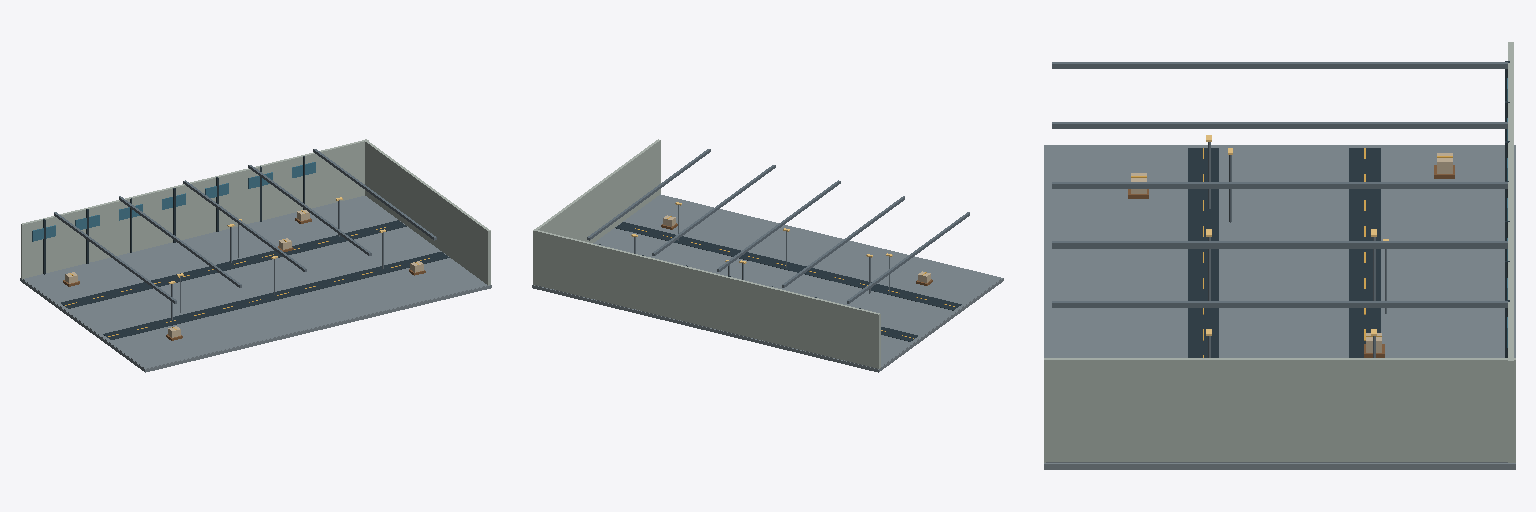
The robot description file, URDF, robot "delivery_logistics_visual":
<?xml version="1.0" encoding="UTF-8"?>
<!-- Static VISUAL ONLY scenery aligned to world/campus_layout.json; no collision dynamics. -->
<robot name="delivery_logistics_visual"><link name="odom">
<visual name="base_1"><origin xyz="16 10 -0.16" rpy="0 0 0"/><geometry><box size="32 20 0.28"/></geometry><material name="concrete"><color rgba="0.5412 0.5843 0.6118 1"/></material></visual>
<visual name="warehouse-concrete_2"><origin xyz="16 10 -0.006" rpy="0 0 0"/><geometry><box size="31.9 19.9 0.045"/></geometry><material name="concrete"><color rgba="0.5412 0.5843 0.6118 1"/></material></visual>
<visual name="industrial-lane_3"><origin xyz="16 6.75 0.023" rpy="0 0 0"/><geometry><box size="31.3 1.35 0.02"/></geometry><material name="dark"><color rgba="0.2235 0.2784 0.3137 1"/></material></visual>
<visual name="lane-mark_4"><origin xyz="1 6.75 0.039" rpy="0 0 0"/><geometry><box size="1.1 0.075 0.02"/></geometry><material name="yellow"><color rgba="0.9059 0.7137 0.3647 1"/></material></visual>
<visual name="lane-mark_5"><origin xyz="3.6 6.75 0.039" rpy="0 0 0"/><geometry><box size="1.1 0.075 0.02"/></geometry><material name="yellow"><color rgba="0.9059 0.7137 0.3647 1"/></material></visual>
<visual name="lane-mark_6"><origin xyz="6.2 6.75 0.039" rpy="0 0 0"/><geometry><box size="1.1 0.075 0.02"/></geometry><material name="yellow"><color rgba="0.9059 0.7137 0.3647 1"/></material></visual>
<visual name="lane-mark_7"><origin xyz="8.8 6.75 0.039" rpy="0 0 0"/><geometry><box size="1.1 0.075 0.02"/></geometry><material name="yellow"><color rgba="0.9059 0.7137 0.3647 1"/></material></visual>
<visual name="lane-mark_8"><origin xyz="11.4 6.75 0.039" rpy="0 0 0"/><geometry><box size="1.1 0.075 0.02"/></geometry><material name="yellow"><color rgba="0.9059 0.7137 0.3647 1"/></material></visual>
<visual name="lane-mark_9"><origin xyz="14 6.75 0.039" rpy="0 0 0"/><geometry><box size="1.1 0.075 0.02"/></geometry><material name="yellow"><color rgba="0.9059 0.7137 0.3647 1"/></material></visual>
<visual name="lane-mark_10"><origin xyz="16.6 6.75 0.039" rpy="0 0 0"/><geometry><box size="1.1 0.075 0.02"/></geometry><material name="yellow"><color rgba="0.9059 0.7137 0.3647 1"/></material></visual>
<visual name="lane-mark_11"><origin xyz="19.2 6.75 0.039" rpy="0 0 0"/><geometry><box size="1.1 0.075 0.02"/></geometry><material name="yellow"><color rgba="0.9059 0.7137 0.3647 1"/></material></visual>
<visual name="lane-mark_12"><origin xyz="21.8 6.75 0.039" rpy="0 0 0"/><geometry><box size="1.1 0.075 0.02"/></geometry><material name="yellow"><color rgba="0.9059 0.7137 0.3647 1"/></material></visual>
<visual name="lane-mark_13"><origin xyz="24.4 6.75 0.039" rpy="0 0 0"/><geometry><box size="1.1 0.075 0.02"/></geometry><material name="yellow"><color rgba="0.9059 0.7137 0.3647 1"/></material></visual>
<visual name="lane-mark_14"><origin xyz="27 6.75 0.039" rpy="0 0 0"/><geometry><box size="1.1 0.075 0.02"/></geometry><material name="yellow"><color rgba="0.9059 0.7137 0.3647 1"/></material></visual>
<visual name="lane-mark_15"><origin xyz="29.6 6.75 0.039" rpy="0 0 0"/><geometry><box size="1.1 0.075 0.02"/></geometry><material name="yellow"><color rgba="0.9059 0.7137 0.3647 1"/></material></visual>
<visual name="industrial-lane_16"><origin xyz="16 13.6 0.023" rpy="0 0 0"/><geometry><box size="31.3 1.35 0.02"/></geometry><material name="dark"><color rgba="0.2235 0.2784 0.3137 1"/></material></visual>
<visual name="lane-mark_17"><origin xyz="1 13.6 0.039" rpy="0 0 0"/><geometry><box size="1.1 0.075 0.02"/></geometry><material name="yellow"><color rgba="0.9059 0.7137 0.3647 1"/></material></visual>
<visual name="lane-mark_18"><origin xyz="3.6 13.6 0.039" rpy="0 0 0"/><geometry><box size="1.1 0.075 0.02"/></geometry><material name="yellow"><color rgba="0.9059 0.7137 0.3647 1"/></material></visual>
<visual name="lane-mark_19"><origin xyz="6.2 13.6 0.039" rpy="0 0 0"/><geometry><box size="1.1 0.075 0.02"/></geometry><material name="yellow"><color rgba="0.9059 0.7137 0.3647 1"/></material></visual>
<visual name="lane-mark_20"><origin xyz="8.8 13.6 0.039" rpy="0 0 0"/><geometry><box size="1.1 0.075 0.02"/></geometry><material name="yellow"><color rgba="0.9059 0.7137 0.3647 1"/></material></visual>
<visual name="lane-mark_21"><origin xyz="11.4 13.6 0.039" rpy="0 0 0"/><geometry><box size="1.1 0.075 0.02"/></geometry><material name="yellow"><color rgba="0.9059 0.7137 0.3647 1"/></material></visual>
<visual name="lane-mark_22"><origin xyz="14 13.6 0.039" rpy="0 0 0"/><geometry><box size="1.1 0.075 0.02"/></geometry><material name="yellow"><color rgba="0.9059 0.7137 0.3647 1"/></material></visual>
<visual name="lane-mark_23"><origin xyz="16.6 13.6 0.039" rpy="0 0 0"/><geometry><box size="1.1 0.075 0.02"/></geometry><material name="yellow"><color rgba="0.9059 0.7137 0.3647 1"/></material></visual>
<visual name="lane-mark_24"><origin xyz="19.2 13.6 0.039" rpy="0 0 0"/><geometry><box size="1.1 0.075 0.02"/></geometry><material name="yellow"><color rgba="0.9059 0.7137 0.3647 1"/></material></visual>
<visual name="lane-mark_25"><origin xyz="21.8 13.6 0.039" rpy="0 0 0"/><geometry><box size="1.1 0.075 0.02"/></geometry><material name="yellow"><color rgba="0.9059 0.7137 0.3647 1"/></material></visual>
<visual name="lane-mark_26"><origin xyz="24.4 13.6 0.039" rpy="0 0 0"/><geometry><box size="1.1 0.075 0.02"/></geometry><material name="yellow"><color rgba="0.9059 0.7137 0.3647 1"/></material></visual>
<visual name="lane-mark_27"><origin xyz="27 13.6 0.039" rpy="0 0 0"/><geometry><box size="1.1 0.075 0.02"/></geometry><material name="yellow"><color rgba="0.9059 0.7137 0.3647 1"/></material></visual>
<visual name="lane-mark_28"><origin xyz="29.6 13.6 0.039" rpy="0 0 0"/><geometry><box size="1.1 0.075 0.02"/></geometry><material name="yellow"><color rgba="0.9059 0.7137 0.3647 1"/></material></visual>
<visual name="rear-wall_29"><origin xyz="16 19.82 2.4" rpy="0 0 0"/><geometry><box size="32 0.25 4.8"/></geometry><material name="wall"><color rgba="0.7216 0.7608 0.7333 1"/></material></visual>
<visual name="east-wall_30"><origin xyz="31.82 10 2.4" rpy="0 0 0"/><geometry><box size="0.25 20 4.8"/></geometry><material name="wall"><color rgba="0.7216 0.7608 0.7333 1"/></material></visual>
<visual name="warehouse-window_31"><origin xyz="2 19.66 3.6" rpy="0 0 0"/><geometry><box size="2.2 0.08 0.95"/></geometry><material name="glass"><color rgba="0.3294 0.5294 0.6118 1"/></material></visual>
<visual name="wall-post_32"><origin xyz="2 19.66 2.4" rpy="0 0 0"/><geometry><box size="0.15 0.22 4.8"/></geometry><material name="dark"><color rgba="0.2235 0.2784 0.3137 1"/></material></visual>
<visual name="warehouse-window_33"><origin xyz="6 19.66 3.6" rpy="0 0 0"/><geometry><box size="2.2 0.08 0.95"/></geometry><material name="glass"><color rgba="0.3294 0.5294 0.6118 1"/></material></visual>
<visual name="wall-post_34"><origin xyz="6 19.66 2.4" rpy="0 0 0"/><geometry><box size="0.15 0.22 4.8"/></geometry><material name="dark"><color rgba="0.2235 0.2784 0.3137 1"/></material></visual>
<visual name="warehouse-window_35"><origin xyz="10 19.66 3.6" rpy="0 0 0"/><geometry><box size="2.2 0.08 0.95"/></geometry><material name="glass"><color rgba="0.3294 0.5294 0.6118 1"/></material></visual>
<visual name="wall-post_36"><origin xyz="10 19.66 2.4" rpy="0 0 0"/><geometry><box size="0.15 0.22 4.8"/></geometry><material name="dark"><color rgba="0.2235 0.2784 0.3137 1"/></material></visual>
<visual name="warehouse-window_37"><origin xyz="14 19.66 3.6" rpy="0 0 0"/><geometry><box size="2.2 0.08 0.95"/></geometry><material name="glass"><color rgba="0.3294 0.5294 0.6118 1"/></material></visual>
<visual name="wall-post_38"><origin xyz="14 19.66 2.4" rpy="0 0 0"/><geometry><box size="0.15 0.22 4.8"/></geometry><material name="dark"><color rgba="0.2235 0.2784 0.3137 1"/></material></visual>
<visual name="warehouse-window_39"><origin xyz="18 19.66 3.6" rpy="0 0 0"/><geometry><box size="2.2 0.08 0.95"/></geometry><material name="glass"><color rgba="0.3294 0.5294 0.6118 1"/></material></visual>
<visual name="wall-post_40"><origin xyz="18 19.66 2.4" rpy="0 0 0"/><geometry><box size="0.15 0.22 4.8"/></geometry><material name="dark"><color rgba="0.2235 0.2784 0.3137 1"/></material></visual>
<visual name="warehouse-window_41"><origin xyz="22 19.66 3.6" rpy="0 0 0"/><geometry><box size="2.2 0.08 0.95"/></geometry><material name="glass"><color rgba="0.3294 0.5294 0.6118 1"/></material></visual>
<visual name="wall-post_42"><origin xyz="22 19.66 2.4" rpy="0 0 0"/><geometry><box size="0.15 0.22 4.8"/></geometry><material name="dark"><color rgba="0.2235 0.2784 0.3137 1"/></material></visual>
<visual name="warehouse-window_43"><origin xyz="26 19.66 3.6" rpy="0 0 0"/><geometry><box size="2.2 0.08 0.95"/></geometry><material name="glass"><color rgba="0.3294 0.5294 0.6118 1"/></material></visual>
<visual name="wall-post_44"><origin xyz="26 19.66 2.4" rpy="0 0 0"/><geometry><box size="0.15 0.22 4.8"/></geometry><material name="dark"><color rgba="0.2235 0.2784 0.3137 1"/></material></visual>
<visual name="roof-support_45"><origin xyz="3 10 5.1" rpy="0 0 0"/><geometry><box size="0.22 19.4 0.24"/></geometry><material name="steel"><color rgba="0.4588 0.5098 0.5451 1"/></material></visual>
<visual name="roof-support_46"><origin xyz="9 10 5.1" rpy="0 0 0"/><geometry><box size="0.22 19.4 0.24"/></geometry><material name="steel"><color rgba="0.4588 0.5098 0.5451 1"/></material></visual>
<visual name="roof-support_47"><origin xyz="15 10 5.1" rpy="0 0 0"/><geometry><box size="0.22 19.4 0.24"/></geometry><material name="steel"><color rgba="0.4588 0.5098 0.5451 1"/></material></visual>
<visual name="roof-support_48"><origin xyz="21 10 5.1" rpy="0 0 0"/><geometry><box size="0.22 19.4 0.24"/></geometry><material name="steel"><color rgba="0.4588 0.5098 0.5451 1"/></material></visual>
<visual name="roof-support_49"><origin xyz="27 10 5.1" rpy="0 0 0"/><geometry><box size="0.22 19.4 0.24"/></geometry><material name="steel"><color rgba="0.4588 0.5098 0.5451 1"/></material></visual>
<visual name="aws-shelf_50"><origin xyz="20 17 0" rpy="0 0 1.5708"/><geometry><mesh filename="/models/environment/world/warehouse-shelf.dae" scale="0.38 0.38 0.38"/></geometry><material name="wall"><color rgba="0.7216 0.7608 0.7333 1"/></material></visual>
<visual name="aws-shelf_51"><origin xyz="28 18.3 0" rpy="0 0 1.5708"/><geometry><mesh filename="/models/environment/world/warehouse-shelf.dae" scale="0.38 0.38 0.38"/></geometry><material name="wall"><color rgba="0.7216 0.7608 0.7333 1"/></material></visual>
<visual name="aws-shelf_52"><origin xyz="3.7 18 0" rpy="0 0 1.5708"/><geometry><mesh filename="/models/environment/world/warehouse-shelf.dae" scale="0.38 0.38 0.38"/></geometry><material name="wall"><color rgba="0.7216 0.7608 0.7333 1"/></material></visual>
<visual name="aws-shelf_53"><origin xyz="17 18 0" rpy="0 0 1.5708"/><geometry><mesh filename="/models/environment/world/warehouse-shelf.dae" scale="0.38 0.38 0.38"/></geometry><material name="wall"><color rgba="0.7216 0.7608 0.7333 1"/></material></visual>
<visual name="pallet_54"><origin xyz="5 4 0.12" rpy="0 0 0"/><geometry><box size="1.05 0.9 0.2"/></geometry><material name="wood"><color rgba="0.5686 0.4235 0.2941 1"/></material></visual>
<visual name="parcel_55"><origin xyz="5 4 0.5" rpy="0 0 0"/><geometry><box size="0.819 0.675 0.6"/></geometry><material name="sand"><color rgba="0.8157 0.749 0.6471 1"/></material></visual>
<visual name="box-strapping_56"><origin xyz="5 4 0.82" rpy="0 0 0"/><geometry><box size="0.08 0.693 0.028"/></geometry><material name="yellow"><color rgba="0.9059 0.7137 0.3647 1"/></material></visual>
<visual name="pallet_57"><origin xyz="21 14 0.12" rpy="0 0 0"/><geometry><box size="1.05 0.9 0.2"/></geometry><material name="wood"><color rgba="0.5686 0.4235 0.2941 1"/></material></visual>
<visual name="parcel_58"><origin xyz="21 14 0.5" rpy="0 0 0"/><geometry><box size="0.819 0.675 0.6"/></geometry><material name="sand"><color rgba="0.8157 0.749 0.6471 1"/></material></visual>
<visual name="box-strapping_59"><origin xyz="21 14 0.82" rpy="0 0 0"/><geometry><box size="0.08 0.693 0.028"/></geometry><material name="yellow"><color rgba="0.9059 0.7137 0.3647 1"/></material></visual>
<visual name="pallet_60"><origin xyz="28 5 0.12" rpy="0 0 0"/><geometry><box size="1.05 0.9 0.2"/></geometry><material name="wood"><color rgba="0.5686 0.4235 0.2941 1"/></material></visual>
<visual name="parcel_61"><origin xyz="28 5 0.5" rpy="0 0 0"/><geometry><box size="0.819 0.675 0.6"/></geometry><material name="sand"><color rgba="0.8157 0.749 0.6471 1"/></material></visual>
<visual name="box-strapping_62"><origin xyz="28 5 0.82" rpy="0 0 0"/><geometry><box size="0.08 0.693 0.028"/></geometry><material name="yellow"><color rgba="0.9059 0.7137 0.3647 1"/></material></visual>
<visual name="pallet_63"><origin xyz="3 17 0.12" rpy="0 0 0"/><geometry><box size="1.05 0.9 0.2"/></geometry><material name="wood"><color rgba="0.5686 0.4235 0.2941 1"/></material></visual>
<visual name="parcel_64"><origin xyz="3 17 0.5" rpy="0 0 0"/><geometry><box size="0.819 0.675 0.6"/></geometry><material name="sand"><color rgba="0.8157 0.749 0.6471 1"/></material></visual>
<visual name="box-strapping_65"><origin xyz="3 17 0.82" rpy="0 0 0"/><geometry><box size="0.08 0.693 0.028"/></geometry><material name="yellow"><color rgba="0.9059 0.7137 0.3647 1"/></material></visual>
<visual name="pallet_66"><origin xyz="25 18 0.12" rpy="0 0 0"/><geometry><box size="1.05 0.9 0.2"/></geometry><material name="wood"><color rgba="0.5686 0.4235 0.2941 1"/></material></visual>
<visual name="parcel_67"><origin xyz="25 18 0.5" rpy="0 0 0"/><geometry><box size="0.819 0.675 0.6"/></geometry><material name="sand"><color rgba="0.8157 0.749 0.6471 1"/></material></visual>
<visual name="box-strapping_68"><origin xyz="25 18 0.82" rpy="0 0 0"/><geometry><box size="0.08 0.693 0.028"/></geometry><material name="yellow"><color rgba="0.9059 0.7137 0.3647 1"/></material></visual>
<visual name="industrial-column_69"><origin xyz="7.8 7.9 1.66" rpy="0 0 0"/><geometry><cylinder radius="0.06" length="3.3"/></geometry><material name="steel"><color rgba="0.4588 0.5098 0.5451 1"/></material></visual>
<visual name="industrial-light_70"><origin xyz="7.8 7.9 3.32" rpy="0 0 0"/><geometry><box size="0.52 0.25 0.11"/></geometry><material name="light"><color rgba="0.9686 0.8196 0.549 1"/></material></visual>
<visual name="industrial-column_71"><origin xyz="17 14.5 1.66" rpy="0 0 0"/><geometry><cylinder radius="0.06" length="3.3"/></geometry><material name="steel"><color rgba="0.4588 0.5098 0.5451 1"/></material></visual>
<visual name="industrial-light_72"><origin xyz="17 14.5 3.32" rpy="0 0 0"/><geometry><box size="0.52 0.25 0.11"/></geometry><material name="light"><color rgba="0.9686 0.8196 0.549 1"/></material></visual>
<visual name="industrial-column_73"><origin xyz="6.5 7 1.66" rpy="0 0 0"/><geometry><cylinder radius="0.06" length="3.3"/></geometry><material name="steel"><color rgba="0.4588 0.5098 0.5451 1"/></material></visual>
<visual name="industrial-light_74"><origin xyz="6.5 7 3.32" rpy="0 0 0"/><geometry><box size="0.52 0.25 0.11"/></geometry><material name="light"><color rgba="0.9686 0.8196 0.549 1"/></material></visual>
<visual name="industrial-column_75"><origin xyz="16 7 1.66" rpy="0 0 0"/><geometry><cylinder radius="0.06" length="3.3"/></geometry><material name="steel"><color rgba="0.4588 0.5098 0.5451 1"/></material></visual>
<visual name="industrial-light_76"><origin xyz="16 7 3.32" rpy="0 0 0"/><geometry><box size="0.52 0.25 0.11"/></geometry><material name="light"><color rgba="0.9686 0.8196 0.549 1"/></material></visual>
<visual name="industrial-column_77"><origin xyz="26 7 1.66" rpy="0 0 0"/><geometry><cylinder radius="0.06" length="3.3"/></geometry><material name="steel"><color rgba="0.4588 0.5098 0.5451 1"/></material></visual>
<visual name="industrial-light_78"><origin xyz="26 7 3.32" rpy="0 0 0"/><geometry><box size="0.52 0.25 0.11"/></geometry><material name="light"><color rgba="0.9686 0.8196 0.549 1"/></material></visual>
<visual name="industrial-column_79"><origin xyz="16 14 1.66" rpy="0 0 0"/><geometry><cylinder radius="0.06" length="3.3"/></geometry><material name="steel"><color rgba="0.4588 0.5098 0.5451 1"/></material></visual>
<visual name="industrial-light_80"><origin xyz="16 14 3.32" rpy="0 0 0"/><geometry><box size="0.52 0.25 0.11"/></geometry><material name="light"><color rgba="0.9686 0.8196 0.549 1"/></material></visual>
<visual name="industrial-column_81"><origin xyz="26 14 1.66" rpy="0 0 0"/><geometry><cylinder radius="0.06" length="3.3"/></geometry><material name="steel"><color rgba="0.4588 0.5098 0.5451 1"/></material></visual>
<visual name="industrial-light_82"><origin xyz="26 14 3.32" rpy="0 0 0"/><geometry><box size="0.52 0.25 0.11"/></geometry><material name="light"><color rgba="0.9686 0.8196 0.549 1"/></material></visual>
</link></robot>

--- Render facts (derived) ---
3 views of the same robot in one strip: view 1: azimuth 30°, elevation 25°; view 2: azimuth 150°, elevation 25°; view 3: azimuth 270°, elevation 25° (orthographic).
Robot: delivery_logistics_visual — 1 links, 0 joints (none); root link odom; default pose: all joints at 0.
Links seen in each view (by area): view 1: odom; view 2: odom; view 3: odom.
Link boxes in pixels (box(x1,y1,x2,y2)): odom: box(20, 139, 491, 372); odom: box(532, 139, 1003, 372); odom: box(1044, 42, 1515, 469).
Size in the robot's own frame: 32 by 20 by 5.52 metres.
Geometry: only primitive shapes (box / cylinder / sphere) drawn; not drawn: 4 mesh visuals (reference in a form the renderer does not follow).
